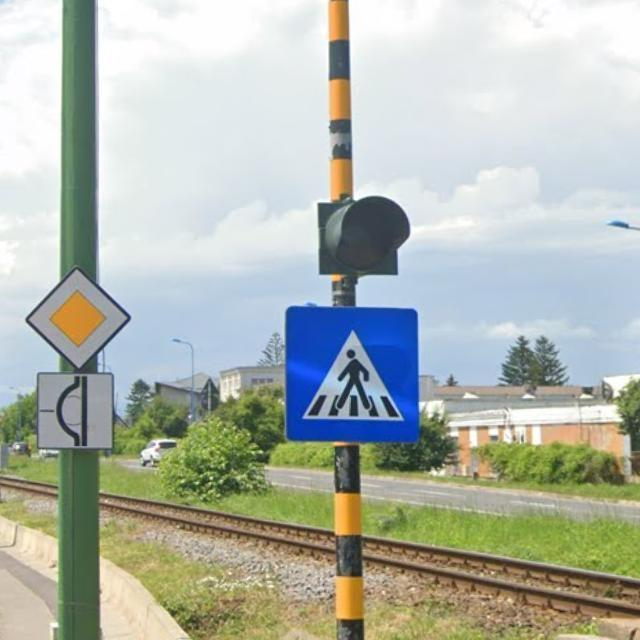info_crosswalk: (286, 302, 422, 446)
